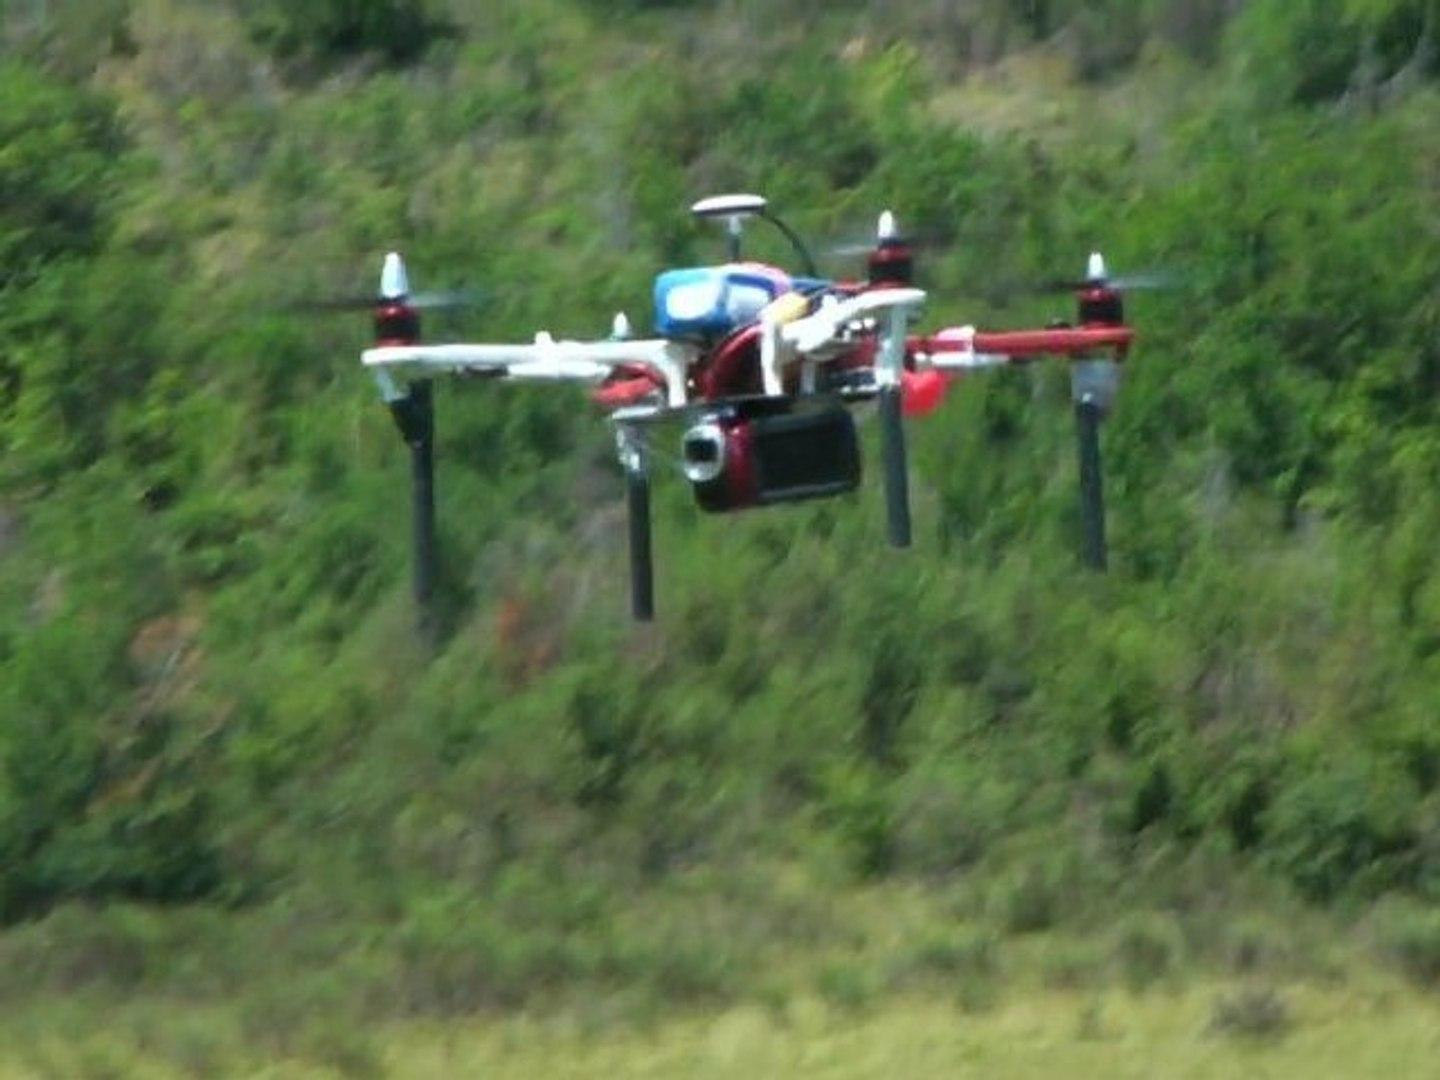drone: (313, 81, 1226, 698)
